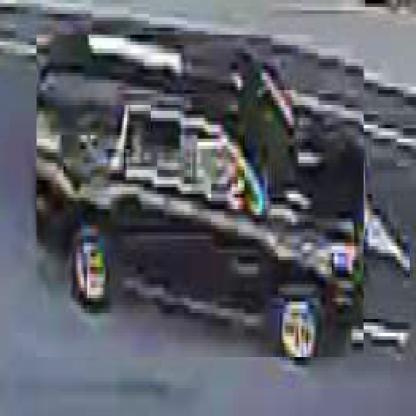car: (36, 36, 365, 362)
